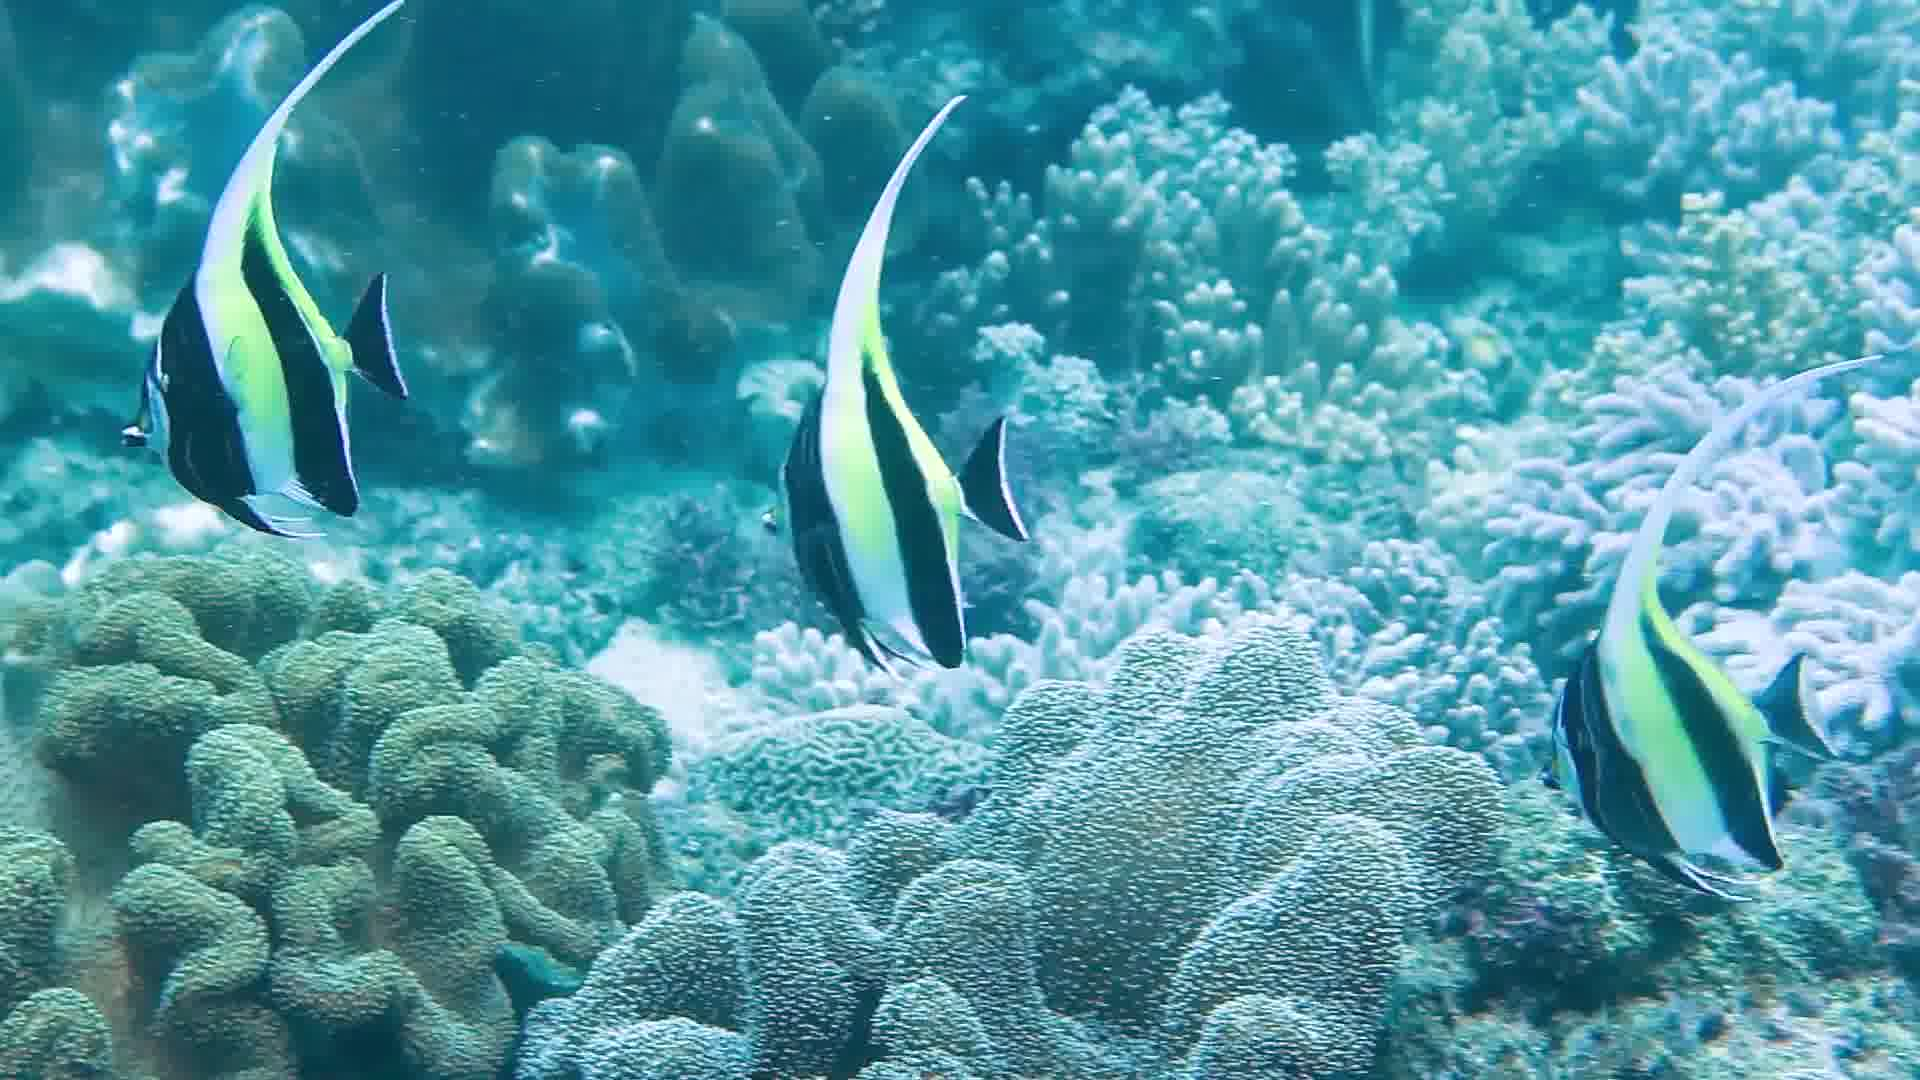Zanclus cornutus: (741, 243, 1050, 698), (119, 187, 407, 533)
